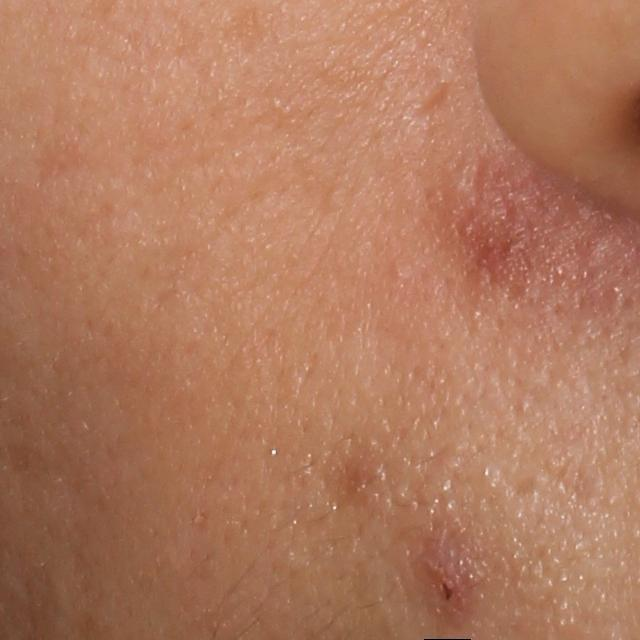atrophic_scar: (400, 84, 456, 125)
papule: (418, 543, 485, 618)
